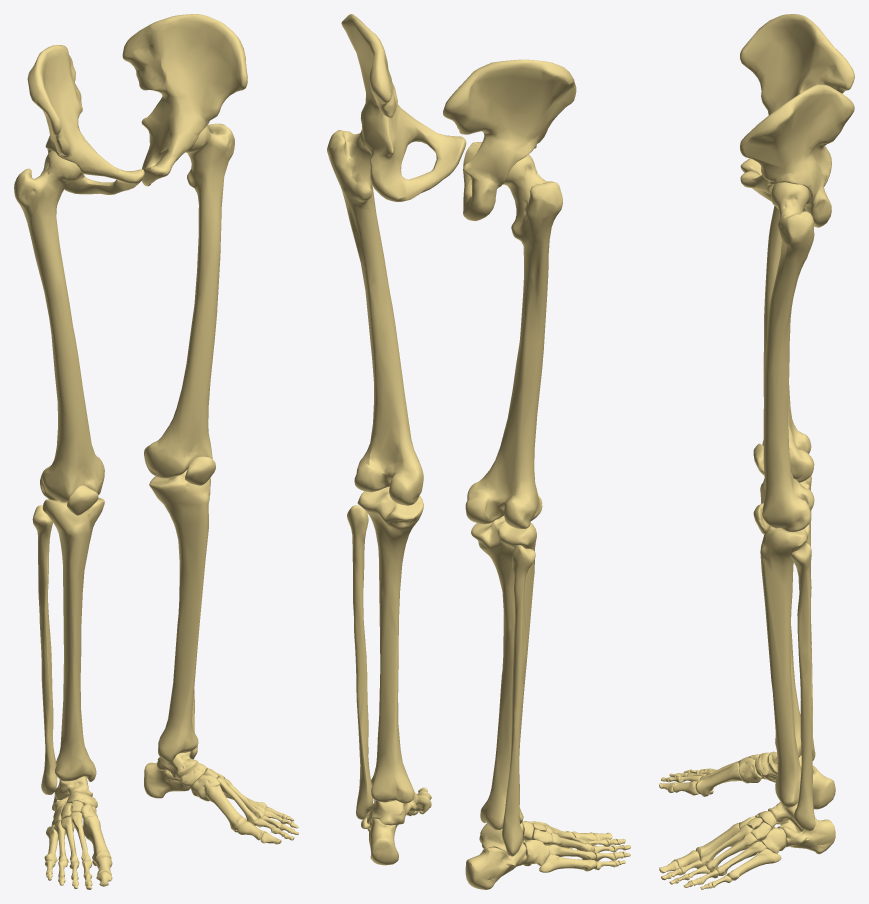
The picture shows the model from 3 angles, left to right: view 1: azimuth 30°, elevation 25°; view 2: azimuth 150°, elevation 25°; view 3: azimuth 270°, elevation 25°; orthographic projection. The views are drawn at different scales.
Parts seen in each view (by area): view 1: hip-pelvis:hip-bone:isa:FJ3288, hip-pelvis:femur:isa:FJ3365, hip-pelvis:femur:isa:FJ3259, knee:tibia:isa:FJ3282, knee:tibia:isa:FJ3387, hip-pelvis:hip-bone:isa:FJ3152, knee:fibula:isa:FJ3366, ankle-foot:calcaneus:isa:FJ3256, ankle-foot:first-metatarsal-bone:isa:FJ3351, ankle-foot:first-metatarsal-bone:isa:FJ3241, knee:patella:isa:FJ3275, knee:patella:isa:FJ3381 (+1 smaller); view 2: hip-pelvis:femur:isa:FJ3365, hip-pelvis:femur:isa:FJ3259, hip-pelvis:hip-bone:isa:FJ3152, hip-pelvis:hip-bone:isa:FJ3288, knee:tibia:isa:FJ3282, knee:tibia:isa:FJ3387, knee:fibula:isa:FJ3366, knee:fibula:isa:FJ3260, ankle-foot:calcaneus:isa:FJ3360, ankle-foot:calcaneus:isa:FJ3256, ankle-foot:talus:isa:FJ3280, ankle-foot:fifth-metatarsal-bone:isa:FJ3359; view 3: hip-pelvis:femur:isa:FJ3259, hip-pelvis:hip-bone:isa:FJ3288, hip-pelvis:hip-bone:isa:FJ3152, knee:tibia:isa:FJ3282, knee:fibula:isa:FJ3260, hip-pelvis:femur:isa:FJ3365, ankle-foot:calcaneus:isa:FJ3256, knee:tibia:isa:FJ3387, ankle-foot:calcaneus:isa:FJ3360, ankle-foot:first-metatarsal-bone:isa:FJ3351, ankle-foot:fifth-metatarsal-bone:isa:FJ3253, ankle-foot:third-metatarsal-bone:isa:FJ3247 (+7 smaller).
Boxes of the visible parts, left/top/right/bottom form: hip-pelvis:hip-bone:isa:FJ3288: left=122, top=14, right=247, bottom=186; hip-pelvis:femur:isa:FJ3365: left=14, top=150, right=104, bottom=502; hip-pelvis:femur:isa:FJ3259: left=144, top=123, right=234, bottom=478; knee:tibia:isa:FJ3282: left=149, top=469, right=210, bottom=762; knee:tibia:isa:FJ3387: left=42, top=497, right=104, bottom=781; hip-pelvis:hip-bone:isa:FJ3152: left=27, top=45, right=144, bottom=194; knee:fibula:isa:FJ3366: left=32, top=505, right=57, bottom=794; ankle-foot:calcaneus:isa:FJ3256: left=144, top=762, right=191, bottom=798; ankle-foot:first-metatarsal-bone:isa:FJ3351: left=82, top=815, right=111, bottom=862; ankle-foot:first-metatarsal-bone:isa:FJ3241: left=207, top=785, right=246, bottom=830; knee:patella:isa:FJ3275: left=185, top=456, right=215, bottom=485; knee:patella:isa:FJ3381: left=67, top=485, right=98, bottom=515; hip-pelvis:femur:isa:FJ3365: left=465, top=154, right=562, bottom=528; hip-pelvis:femur:isa:FJ3259: left=327, top=130, right=423, bottom=505; hip-pelvis:hip-bone:isa:FJ3152: left=443, top=59, right=576, bottom=220; hip-pelvis:hip-bone:isa:FJ3288: left=341, top=14, right=466, bottom=202; knee:tibia:isa:FJ3282: left=357, top=486, right=423, bottom=803; knee:tibia:isa:FJ3387: left=471, top=516, right=536, bottom=829; knee:fibula:isa:FJ3366: left=502, top=545, right=535, bottom=856; knee:fibula:isa:FJ3260: left=347, top=505, right=373, bottom=819; ankle-foot:calcaneus:isa:FJ3360: left=465, top=842, right=526, bottom=889; ankle-foot:calcaneus:isa:FJ3256: left=367, top=811, right=404, bottom=865; ankle-foot:talus:isa:FJ3280: left=370, top=800, right=411, bottom=825; ankle-foot:fifth-metatarsal-bone:isa:FJ3359: left=539, top=854, right=596, bottom=872; hip-pelvis:femur:isa:FJ3259: left=762, top=182, right=814, bottom=531; hip-pelvis:hip-bone:isa:FJ3288: left=740, top=84, right=854, bottom=227; hip-pelvis:hip-bone:isa:FJ3152: left=740, top=14, right=854, bottom=186; knee:tibia:isa:FJ3282: left=760, top=524, right=809, bottom=807; knee:fibula:isa:FJ3260: left=790, top=543, right=815, bottom=830; hip-pelvis:femur:isa:FJ3365: left=762, top=206, right=814, bottom=482; ankle-foot:calcaneus:isa:FJ3256: left=777, top=817, right=835, bottom=854; knee:tibia:isa:FJ3387: left=760, top=478, right=812, bottom=757; ankle-foot:calcaneus:isa:FJ3360: left=812, top=766, right=835, bottom=809; ankle-foot:first-metatarsal-bone:isa:FJ3351: left=695, top=762, right=742, bottom=795; ankle-foot:fifth-metatarsal-bone:isa:FJ3253: left=727, top=848, right=781, bottom=880; ankle-foot:third-metatarsal-bone:isa:FJ3247: left=705, top=833, right=757, bottom=872.
Size of the model in its own units: 0.3387 by 1.03 by 0.2349.
